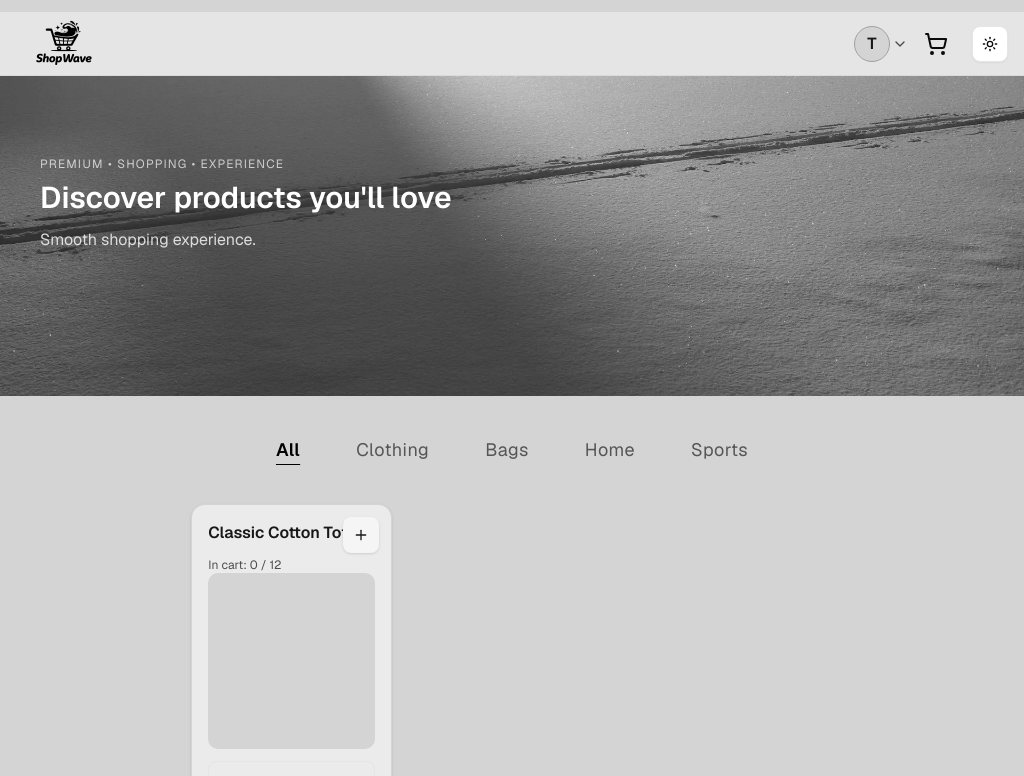
it: cart count should increase after Add to Cart click
Expected: the text "Classic Cotton Tote" is shown, top-left (208, 521), bottom-right (375, 545)
Click the button named "Add to Cart" at (361, 535), box top-left (343, 517), bottom-right (379, 553)
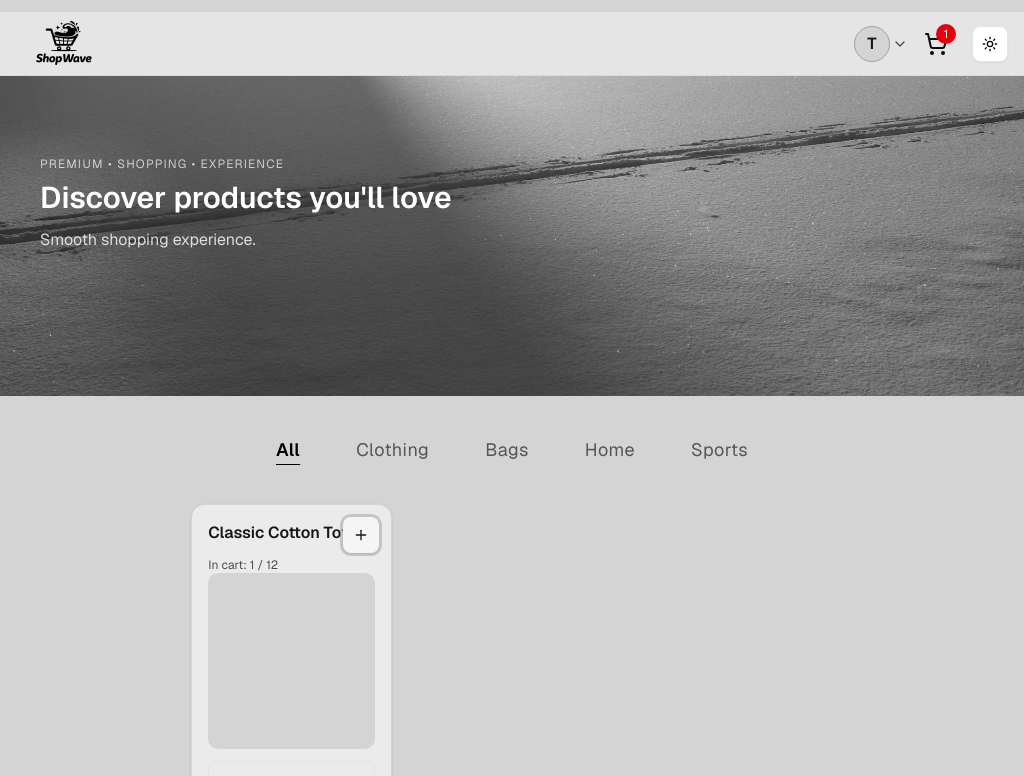
Expected: the text "1" is shown, top-left (936, 24), bottom-right (956, 44)
